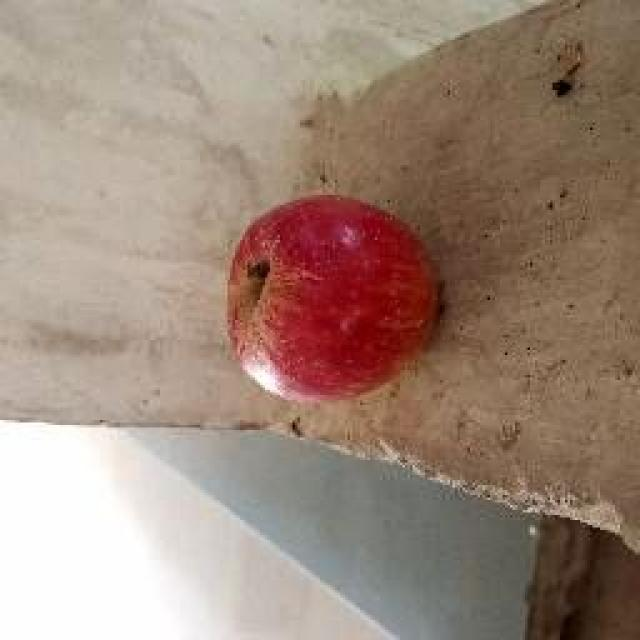Good_Apple: (225, 192, 445, 405)
